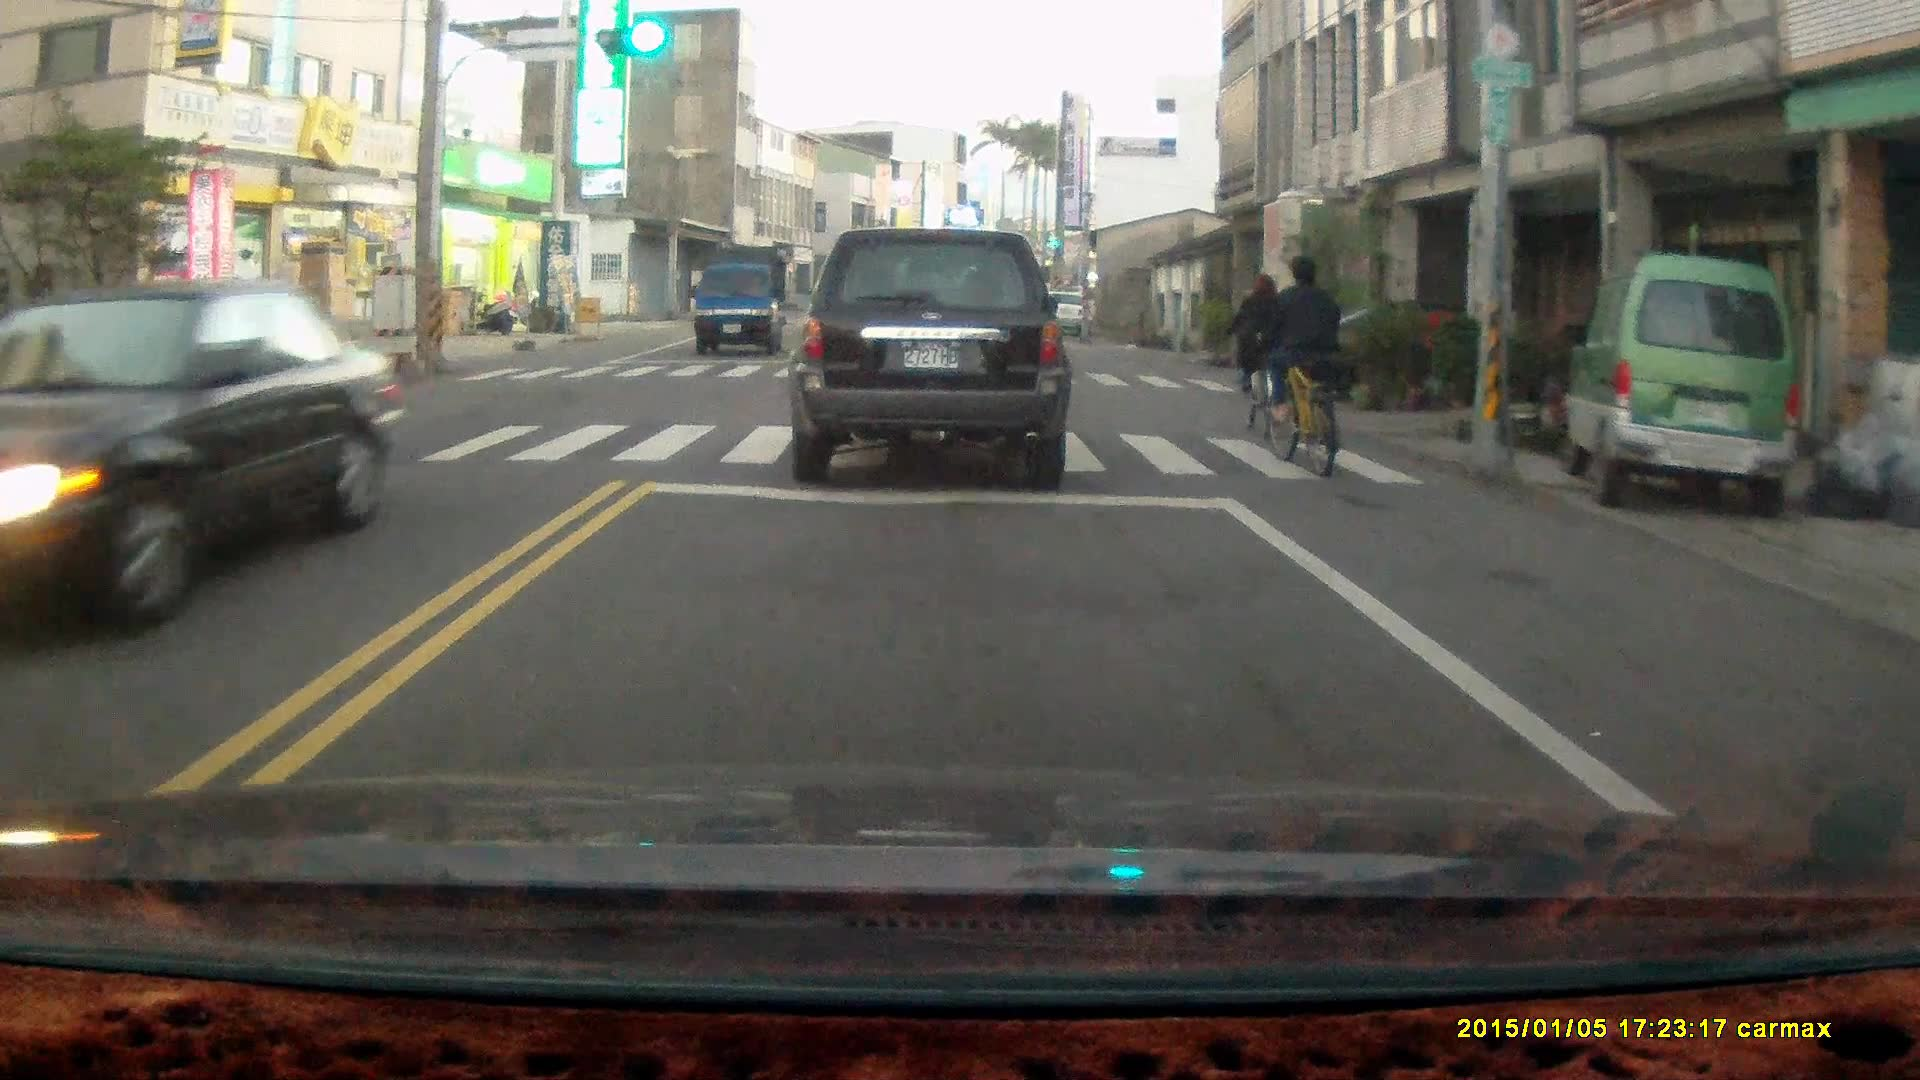rider: (1258, 253, 1347, 476), (1229, 275, 1289, 443)
vehicle: (4, 287, 392, 617), (791, 229, 1071, 491), (1577, 258, 1813, 525), (693, 252, 794, 360)
